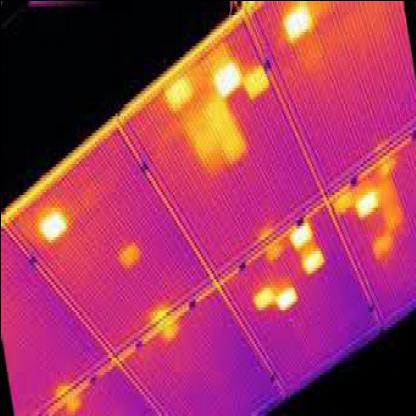Defects: (242, 64, 270, 98), (40, 210, 66, 244), (216, 64, 239, 92), (162, 79, 190, 101), (118, 242, 139, 268), (286, 14, 308, 34), (358, 192, 376, 214), (304, 253, 322, 270), (277, 290, 295, 306), (292, 222, 308, 239)
